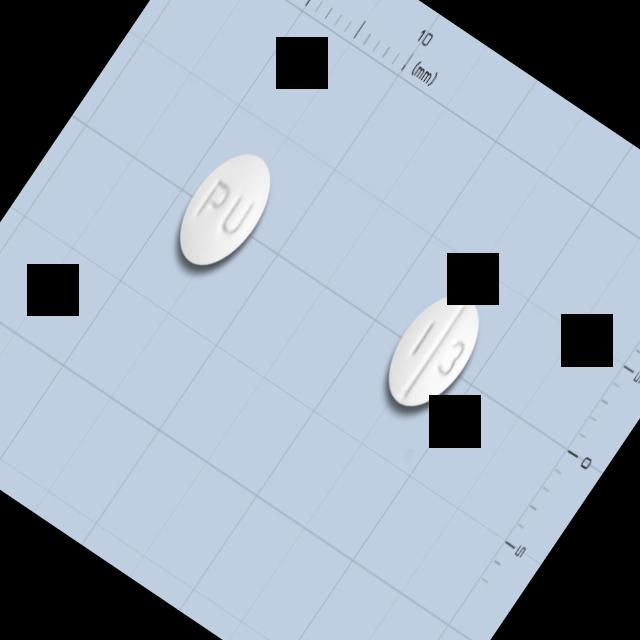Rheumakin Tab: (160, 136, 292, 284), (370, 280, 497, 423)
